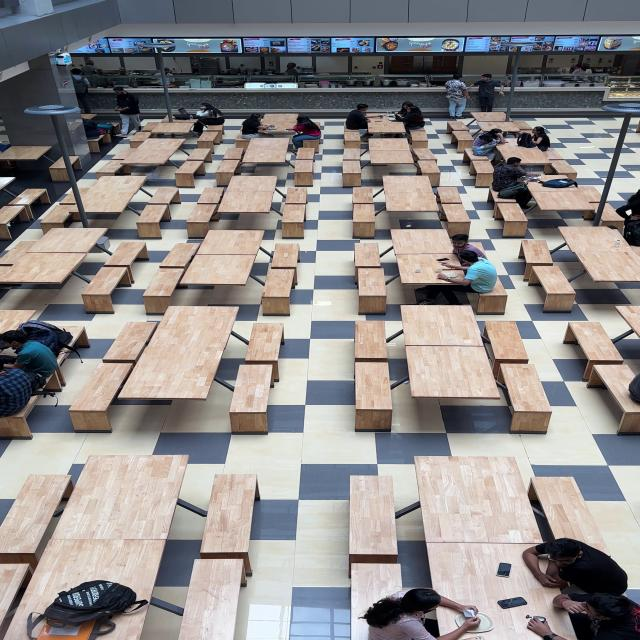Occupied: (417, 498, 558, 591), (447, 589, 568, 638), (549, 587, 640, 640), (422, 250, 499, 307), (1, 330, 58, 388), (483, 322, 530, 380), (491, 157, 540, 201), (350, 606, 406, 640), (1, 393, 43, 434), (187, 105, 227, 138), (354, 322, 388, 360), (288, 116, 322, 152), (472, 128, 505, 162), (41, 354, 66, 392), (397, 102, 427, 133), (240, 114, 274, 140), (441, 202, 471, 231), (520, 171, 556, 195), (530, 127, 551, 152)
Unoccupied: (7, 538, 171, 638), (49, 456, 191, 542), (416, 456, 544, 543), (528, 476, 614, 556), (0, 469, 71, 562), (199, 472, 260, 580), (541, 515, 627, 587), (1, 522, 77, 603), (174, 559, 245, 639), (127, 346, 223, 402), (360, 587, 460, 637), (404, 346, 496, 400), (352, 322, 396, 432), (68, 362, 136, 430), (348, 472, 396, 566), (548, 591, 639, 640), (496, 363, 552, 433), (69, 176, 149, 222), (566, 323, 627, 383), (0, 251, 91, 288), (525, 186, 606, 227), (377, 175, 440, 226), (228, 365, 274, 434), (161, 304, 231, 348), (400, 309, 482, 345), (113, 138, 187, 176), (214, 177, 282, 218), (569, 248, 640, 286), (178, 254, 259, 287), (345, 558, 407, 598), (0, 564, 33, 637), (244, 324, 284, 384), (352, 564, 401, 612), (102, 323, 160, 362), (531, 265, 578, 312), (556, 227, 632, 256), (80, 268, 128, 312), (23, 230, 108, 254), (102, 242, 149, 284), (142, 270, 186, 314), (240, 139, 294, 174), (590, 364, 638, 400), (194, 229, 266, 252), (73, 118, 119, 154), (261, 269, 295, 314), (388, 228, 448, 252), (520, 240, 554, 282), (504, 144, 554, 171), (474, 276, 509, 314), (269, 244, 299, 286), (143, 121, 197, 143), (143, 188, 180, 220), (221, 238, 278, 258), (192, 187, 225, 221), (185, 203, 218, 236), (136, 204, 170, 236), (157, 244, 201, 268), (494, 203, 529, 233), (352, 194, 377, 235), (368, 117, 407, 143), (585, 202, 625, 227), (491, 187, 523, 218), (0, 241, 36, 268), (230, 216, 274, 238), (566, 186, 604, 211), (9, 188, 49, 211), (40, 204, 78, 228), (280, 204, 306, 238), (0, 309, 36, 333), (174, 160, 205, 187), (414, 155, 441, 186), (0, 146, 52, 162), (48, 156, 81, 181), (614, 306, 639, 338), (354, 242, 382, 270), (292, 153, 315, 187), (469, 158, 495, 187), (53, 326, 88, 346), (214, 158, 243, 182), (545, 157, 578, 178), (193, 243, 213, 276), (476, 121, 520, 136), (464, 147, 492, 170), (260, 114, 299, 130), (1, 205, 28, 228), (341, 158, 363, 186), (94, 161, 128, 179), (184, 148, 213, 168), (110, 146, 146, 162), (449, 127, 475, 149), (220, 147, 248, 167), (287, 227, 314, 247), (434, 187, 463, 204), (197, 130, 223, 148), (284, 187, 308, 205), (512, 120, 536, 138), (342, 148, 362, 169), (472, 111, 510, 122), (353, 187, 376, 205), (408, 129, 428, 149), (199, 229, 221, 247), (462, 242, 487, 257), (129, 134, 155, 148), (298, 134, 320, 149), (294, 147, 316, 161), (343, 133, 361, 149), (86, 138, 103, 154), (94, 132, 112, 146), (141, 122, 165, 132), (235, 137, 251, 151), (83, 115, 95, 119)
